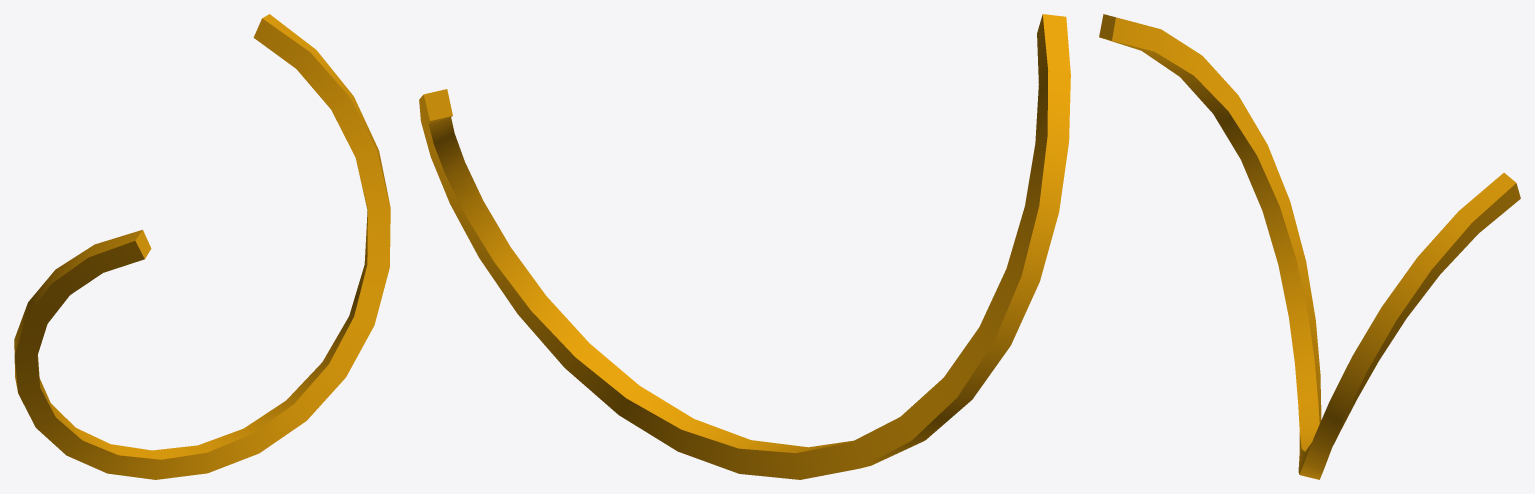
The model's file is L_Rope_A_08.fbx.
3 renders of one model, left to right at view 1: azimuth 30°, elevation 25°; view 2: azimuth 150°, elevation 25°; view 3: azimuth 270°, elevation 25°, orthographic. The views are drawn at different scales.
Parts seen in each view (by area): view 1: L_Rope_A_08; view 2: L_Rope_A_08; view 3: L_Rope_A_08.
Boxes of the visible parts, x1,y1,x2,y2 form: L_Rope_A_08: (14, 14, 390, 479); L_Rope_A_08: (419, 14, 1070, 479); L_Rope_A_08: (1099, 14, 1520, 479).
Size of the model in its own units: 184 by 139 by 148.
